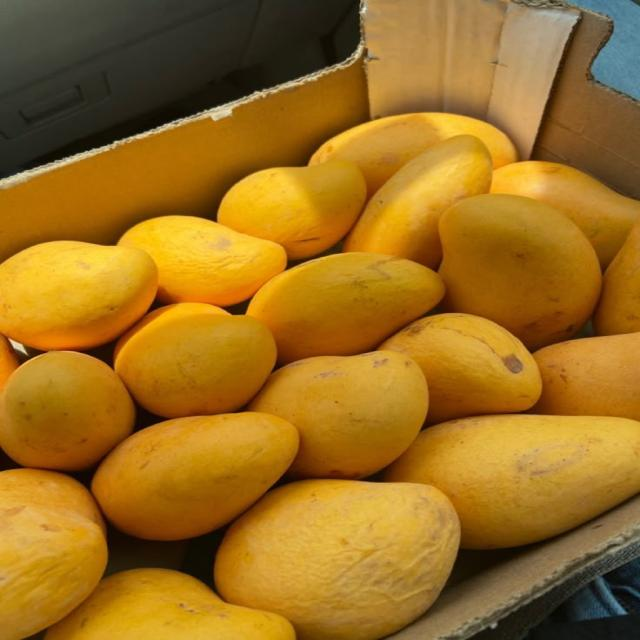mango: (214, 480, 459, 639), (385, 415, 639, 548), (92, 412, 299, 540), (439, 194, 601, 350), (248, 351, 428, 479), (247, 252, 444, 364), (343, 135, 492, 268), (114, 304, 276, 418), (0, 470, 107, 639), (379, 314, 541, 424), (45, 568, 294, 639), (309, 113, 517, 197), (0, 241, 158, 350), (0, 351, 136, 471), (491, 161, 639, 268), (118, 215, 286, 306), (217, 160, 366, 260), (532, 333, 639, 420), (593, 221, 639, 335)
